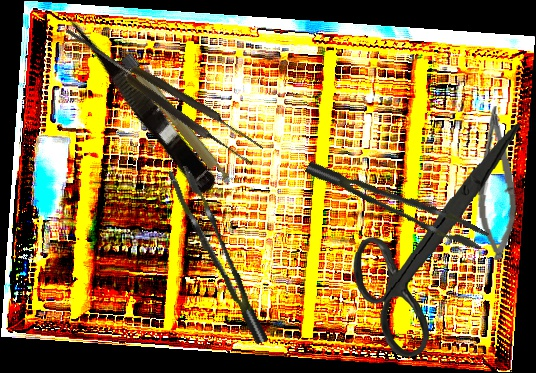Iris Scissors: (349, 118, 522, 361)
Micro Scissor: (57, 2, 223, 198), (468, 105, 523, 261)
Scalpel Handle: (120, 52, 234, 189)
Tissue Forceps: (59, 17, 266, 169), (304, 138, 490, 267), (167, 158, 269, 354)
